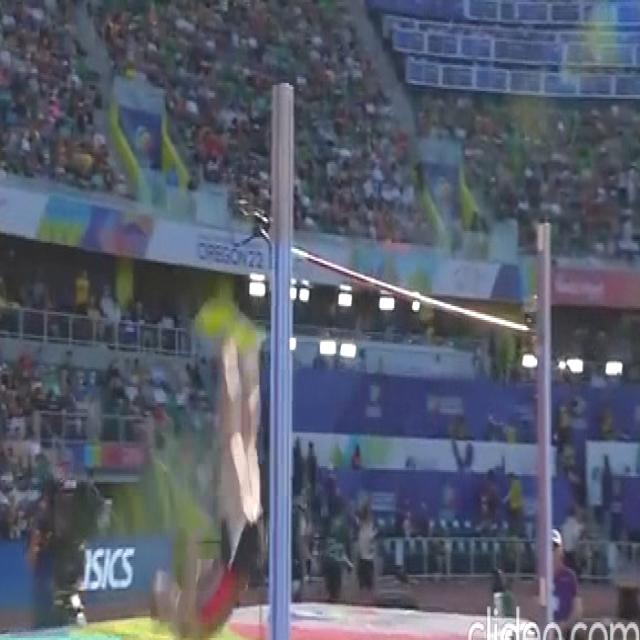land: (152, 296, 260, 640)
